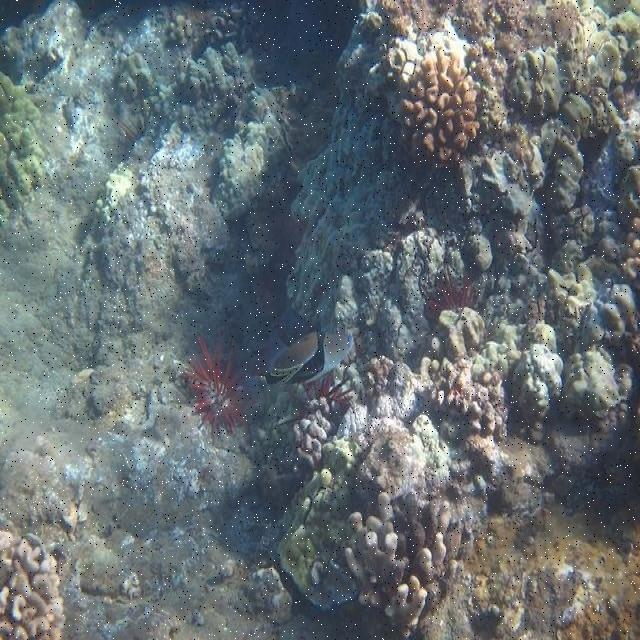fish: (243, 332, 356, 415)
reefs: (402, 48, 480, 166), (0, 514, 66, 639), (181, 332, 250, 444)
